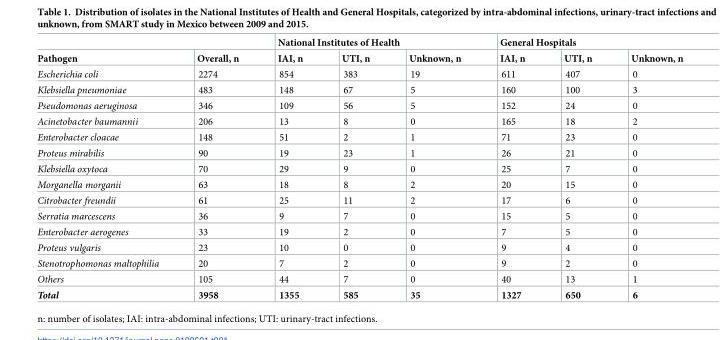table: (36, 37, 682, 301)
table column: (36, 37, 177, 301), (388, 37, 479, 301), (177, 37, 257, 301), (610, 37, 682, 301), (321, 37, 388, 301), (543, 37, 610, 301), (257, 37, 321, 301), (479, 37, 543, 301)
table column header: (36, 37, 682, 65)
table row: (36, 65, 682, 81), (36, 81, 682, 97), (36, 97, 682, 113), (36, 128, 682, 144), (36, 144, 682, 160), (36, 160, 682, 176), (36, 176, 682, 192), (36, 207, 682, 223), (36, 223, 682, 239), (36, 239, 682, 255), (36, 270, 682, 286), (36, 50, 682, 65), (36, 113, 682, 128), (36, 192, 682, 207), (36, 255, 682, 270), (36, 286, 682, 301), (36, 37, 682, 50)
table spanning cell: (36, 37, 177, 65), (257, 37, 479, 50), (479, 37, 682, 50), (177, 37, 257, 65)
